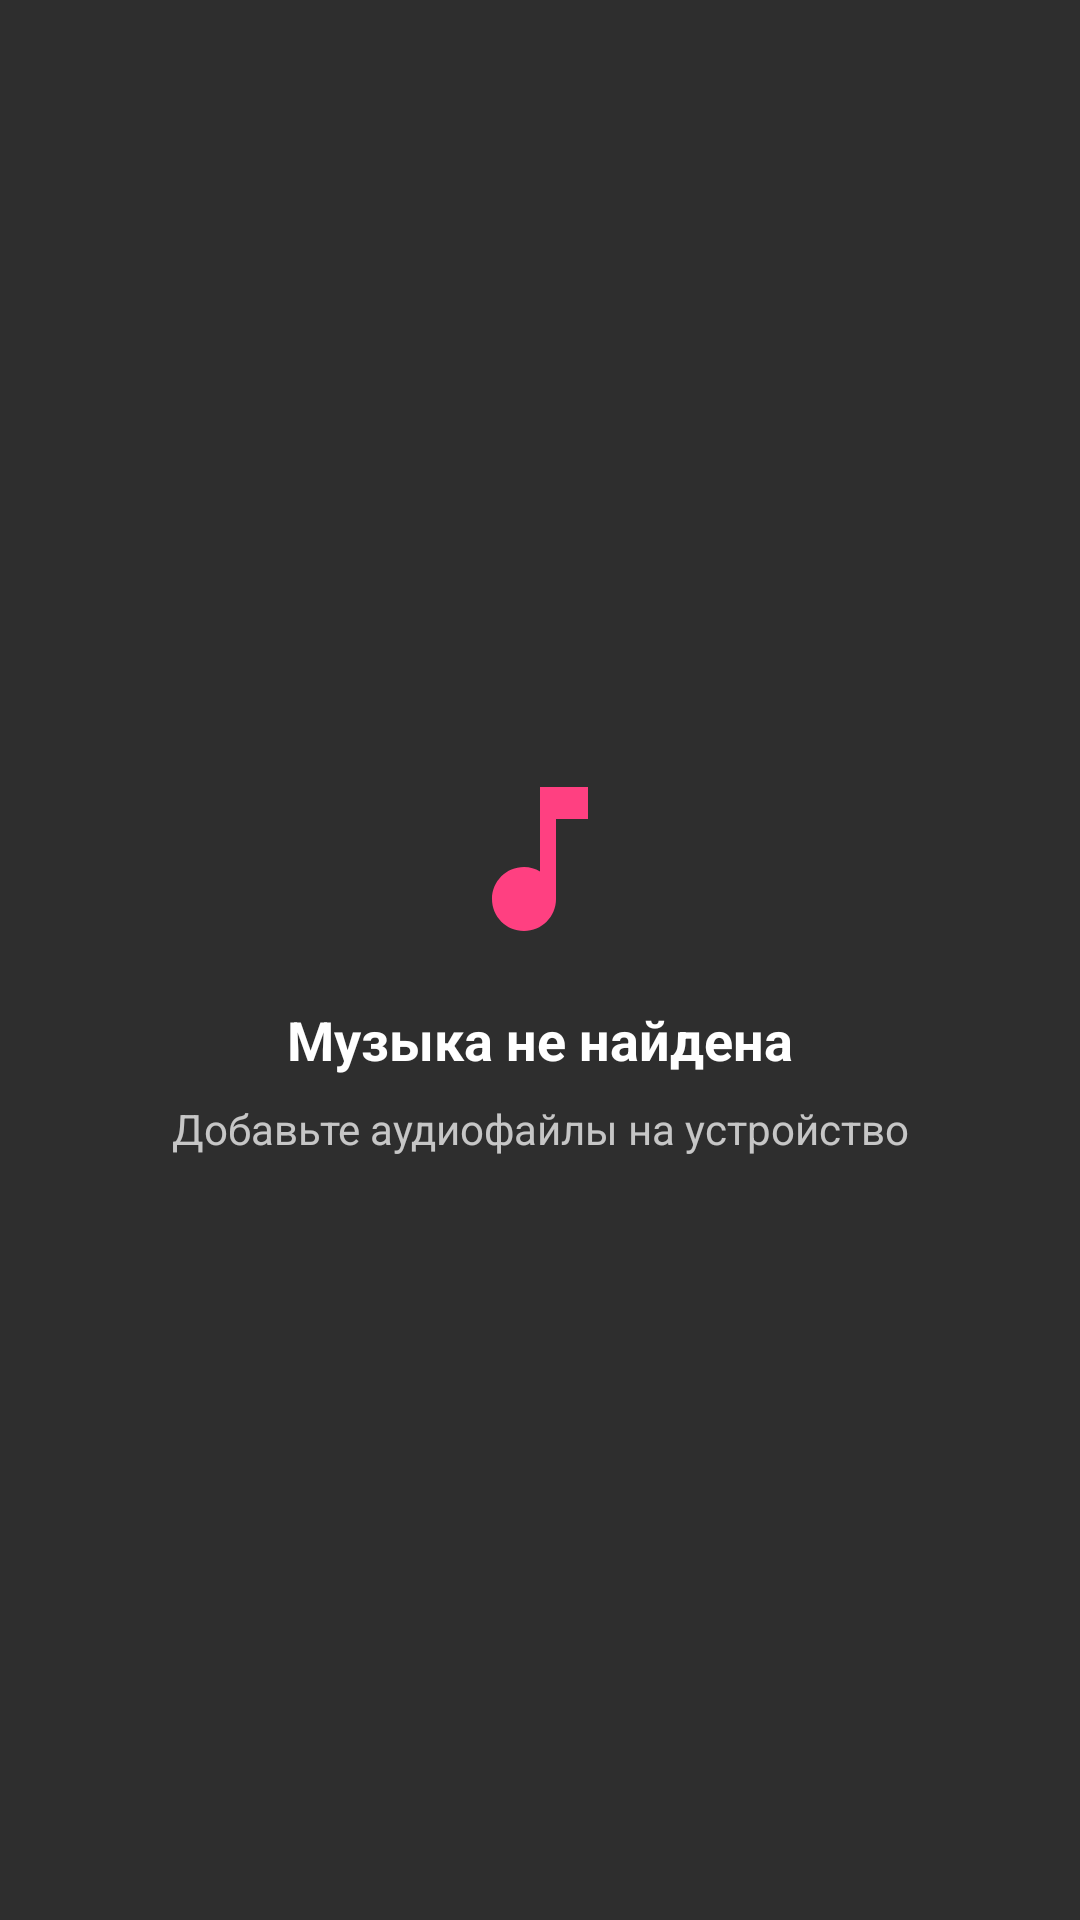

Where to tap for icons on this 1080x1920 app screen, as (x=x, y=y):
music note: (x=540, y=859)
